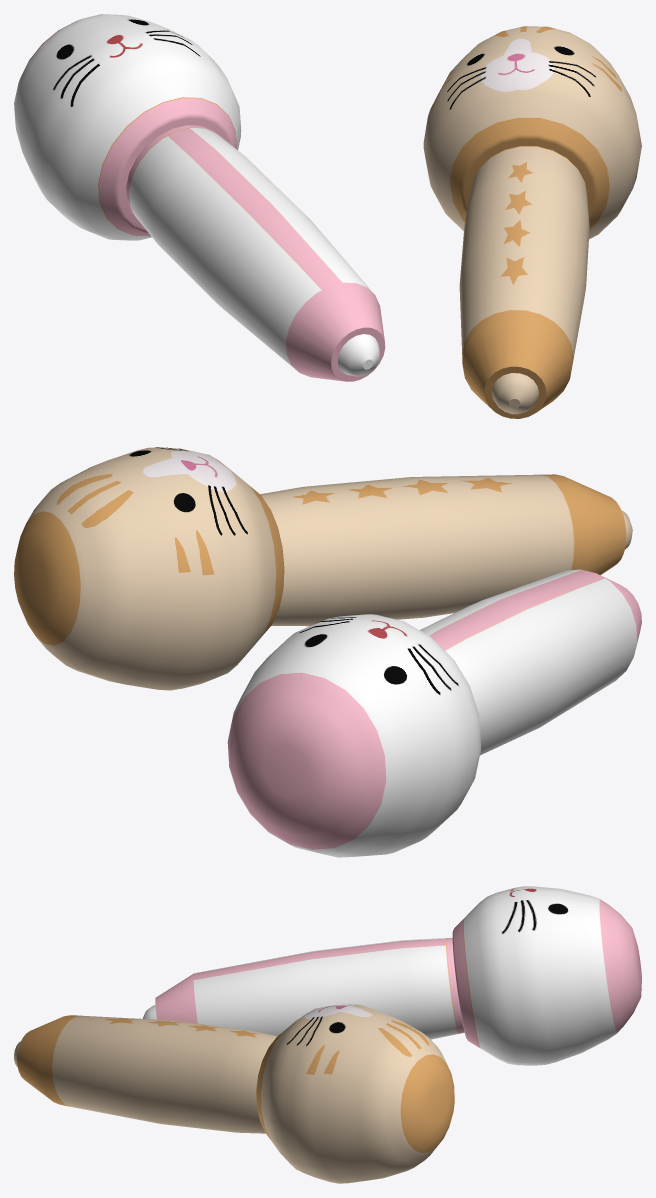
The model's file is Pens.fbx.
3 views of the same model, one above another, from view 1: azimuth 30°, elevation 25°; view 2: azimuth 150°, elevation 25°; view 3: azimuth 270°, elevation 25° (orthographic). The views are drawn at different scales.
Parts seen in each view (by area): view 1: Pens; view 2: Pens; view 3: Pens.
Part boxes in pixels (bbox=[...]): Pens: bbox=[14, 14, 641, 418]; Pens: bbox=[14, 447, 641, 857]; Pens: bbox=[14, 886, 641, 1183].
Size of the model in its own units: 97.79 by 38.12 by 133.
